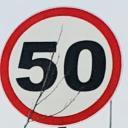speed_limit_50: (0, 4, 122, 125)
